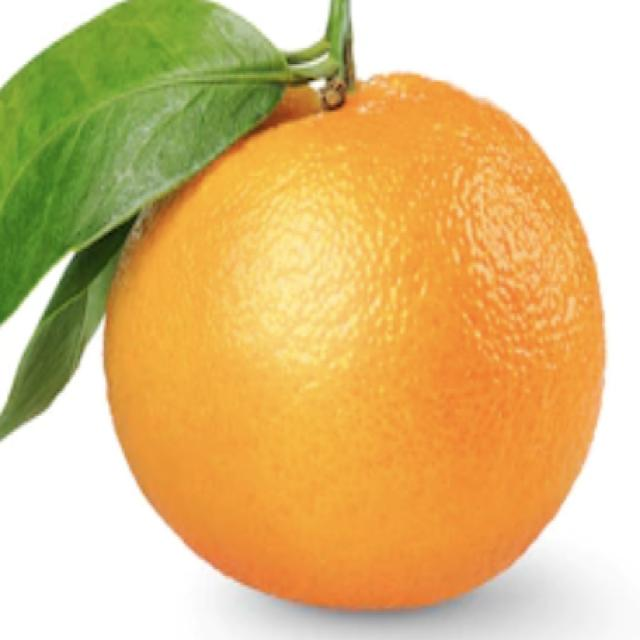orange: (106, 75, 604, 609)
